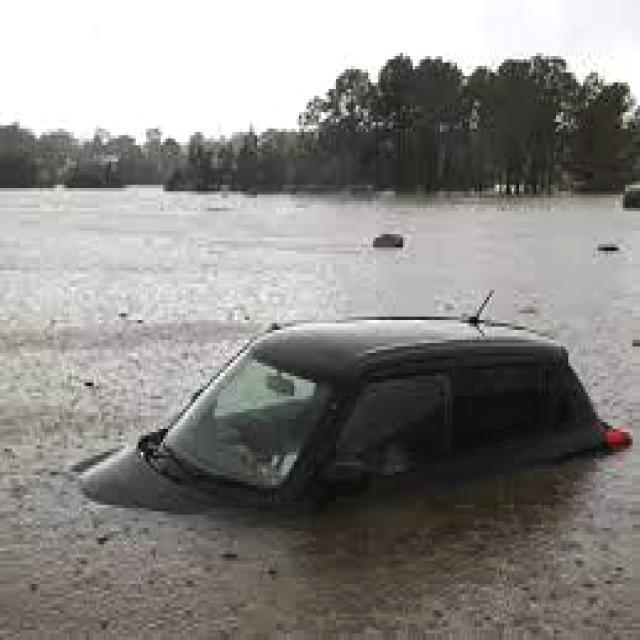water: (1, 183, 638, 478), (0, 432, 638, 639)
